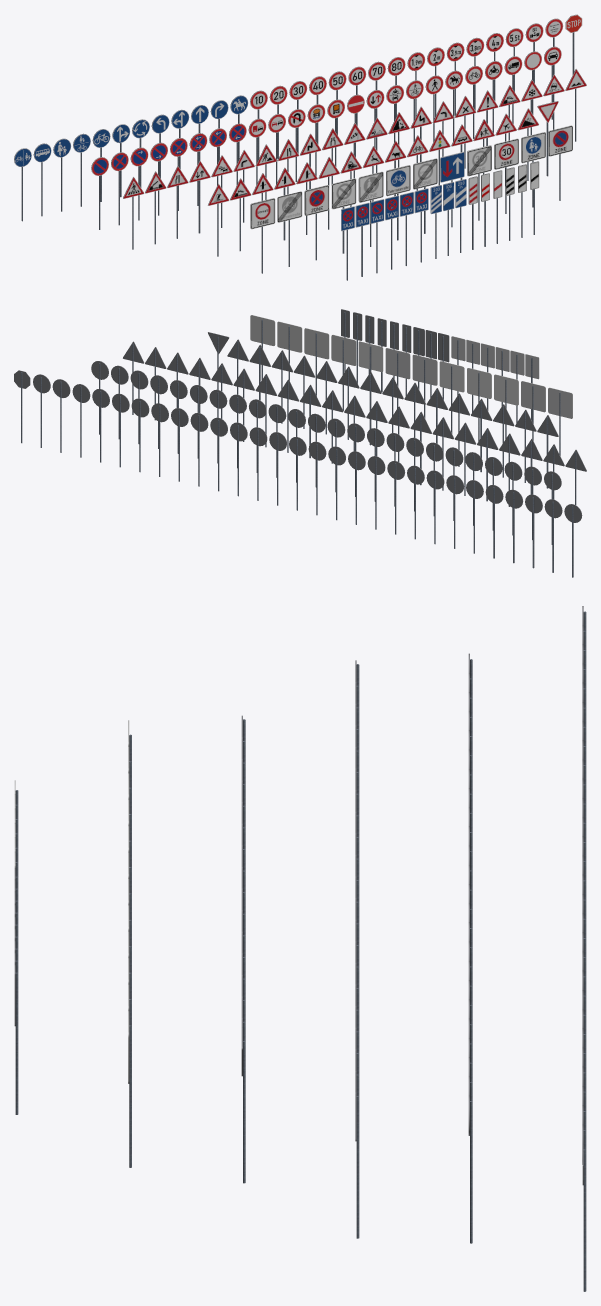
File: TRAFSIGN.FBX
3 views of the same model, one above another, from view 1: azimuth 30°, elevation 25°; view 2: azimuth 150°, elevation 25°; view 3: azimuth 270°, elevation 25° (orthographic). The views are drawn at different scales.
Parts seen in each view (by area): view 1: TRAFSIGN_TYPE109_L9_001, TRAFSIGN_TYPE101_L9_001, TRAFSIGN_TYPE102_L9_001, TRAFSIGN_TYPE104_L9_001, TRAFSIGN_TYPE106_L9_001, TRAFSIGN_TYPE98_L9_001, TRAFSIGN_TYPE103_L9_001, TRAFSIGN_TYPE100_L9_001, TRAFSIGN_TYPE107_L9_001, TRAFSIGN_TYPE108_L9_001, TRAFSIGN_TYPE99_L9_001, TRAFSIGN_TYPE105_L9_001 (+40 smaller); view 2: TRAFSIGN_TYPE100_L9_001, TRAFSIGN_TYPE103_L9_001, TRAFSIGN_TYPE106_L9_001, TRAFSIGN_TYPE108_L9_001, TRAFSIGN_TYPE109_L9_001, TRAFSIGN_TYPE99_L9_001, TRAFSIGN_TYPE107_L9_001, TRAFSIGN_TYPE98_L9_001, TRAFSIGN_TYPE104_L9_001, TRAFSIGN_TYPE101_L9_001, TRAFSIGN_TYPE102_L9_001, TRAFSIGN_TYPE105_L9_001 (+38 smaller); view 3: no part large enough to name.
Part boxes in pixels (box(x1,y1,x2,y2)): TRAFSIGN_TYPE109_L9_001: box(250, 198, 275, 273); TRAFSIGN_TYPE101_L9_001: box(277, 191, 302, 266); TRAFSIGN_TYPE102_L9_001: box(304, 185, 329, 260); TRAFSIGN_TYPE104_L9_001: box(331, 178, 356, 253); TRAFSIGN_TYPE106_L9_001: box(467, 145, 491, 220); TRAFSIGN_TYPE98_L9_001: box(548, 125, 572, 200); TRAFSIGN_TYPE103_L9_001: box(358, 171, 383, 246); TRAFSIGN_TYPE100_L9_001: box(494, 138, 518, 213); TRAFSIGN_TYPE107_L9_001: box(413, 158, 437, 233); TRAFSIGN_TYPE108_L9_001: box(386, 165, 410, 240); TRAFSIGN_TYPE99_L9_001: box(521, 132, 545, 207); TRAFSIGN_TYPE105_L9_001: box(440, 151, 464, 227); TRAFSIGN_TYPE100_L9_001: box(304, 328, 329, 396); TRAFSIGN_TYPE103_L9_001: box(439, 361, 464, 433); TRAFSIGN_TYPE106_L9_001: box(331, 334, 356, 410); TRAFSIGN_TYPE108_L9_001: box(412, 354, 437, 418); TRAFSIGN_TYPE109_L9_001: box(548, 387, 572, 455); TRAFSIGN_TYPE99_L9_001: box(277, 321, 302, 380); TRAFSIGN_TYPE107_L9_001: box(385, 348, 410, 408); TRAFSIGN_TYPE98_L9_001: box(250, 315, 275, 379); TRAFSIGN_TYPE104_L9_001: box(467, 368, 491, 441); TRAFSIGN_TYPE101_L9_001: box(521, 381, 545, 440); TRAFSIGN_TYPE102_L9_001: box(494, 374, 518, 438); TRAFSIGN_TYPE105_L9_001: box(358, 341, 383, 372).
Bounding box in the file's own units: 23.1 × 2.83 × 10.07.
Materials: 27 (27 with a texture image).
